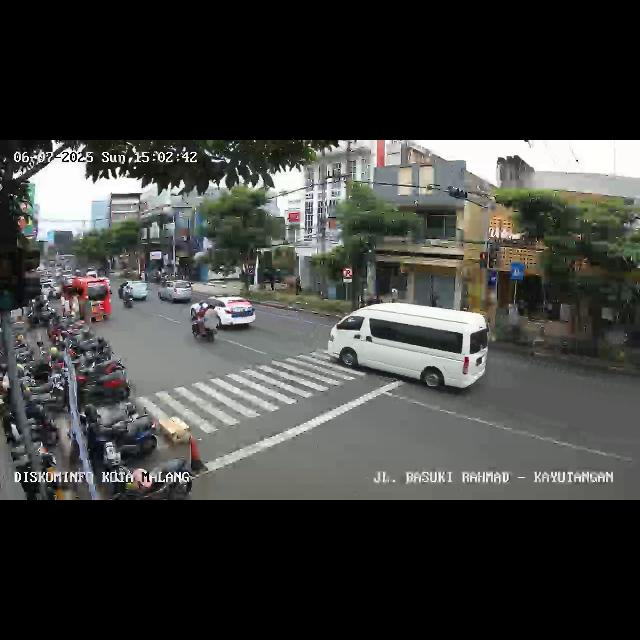car: (332, 304, 491, 400), (60, 277, 112, 325), (194, 296, 256, 330), (158, 280, 194, 304), (120, 280, 150, 308)
motorcycle: (192, 301, 220, 344), (122, 281, 134, 309)
